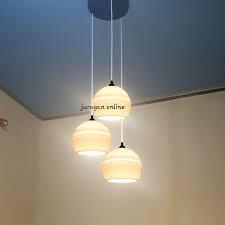Lamp: (98, 1, 144, 186), (70, 2, 113, 159), (90, 7, 135, 124)
